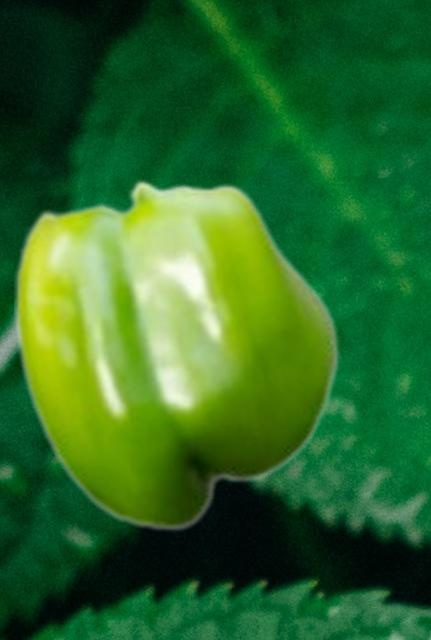bell_pepper: (14, 179, 339, 531)
